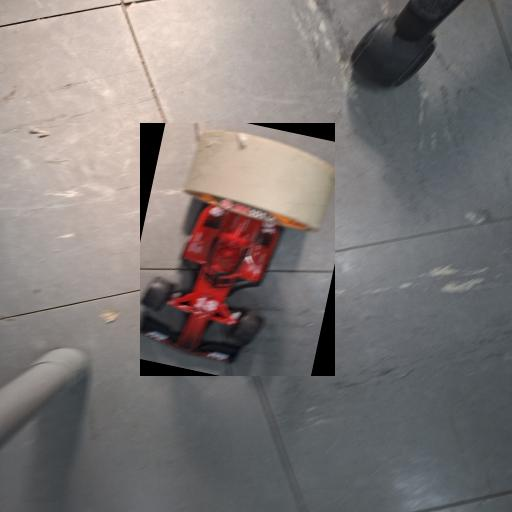carro: (140, 123, 335, 376)
